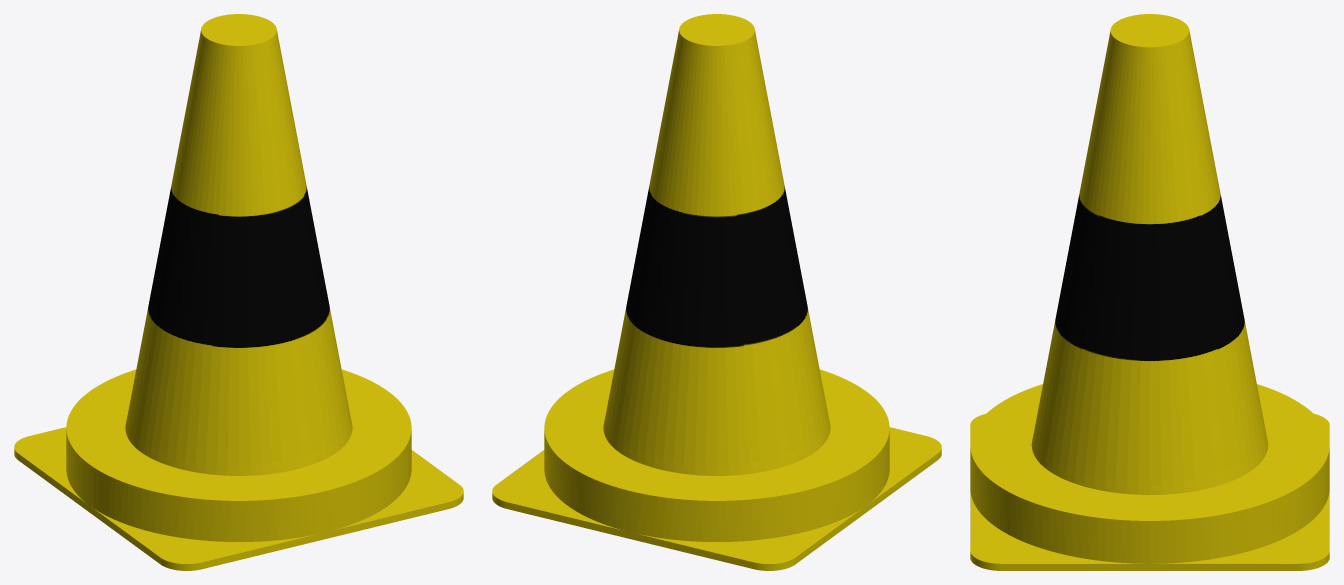
File: yCone.glb
The picture shows the model from 3 angles, left to right: view 1: azimuth 30°, elevation 25°; view 2: azimuth 150°, elevation 25°; view 3: azimuth 270°, elevation 25°; orthographic projection. The views are drawn at different scales.
Visible parts, largest first — view 1: Cone; view 2: Cone; view 3: Cone.
Boxes of the visible parts, <box> form: Cone: <box>14,14,463,570</box>; Cone: <box>492,14,941,570</box>; Cone: <box>970,14,1329,570</box>.
Bounding box in the file's own units: 0.228 × 0.325 × 0.228.
1 material, 1 textured.
